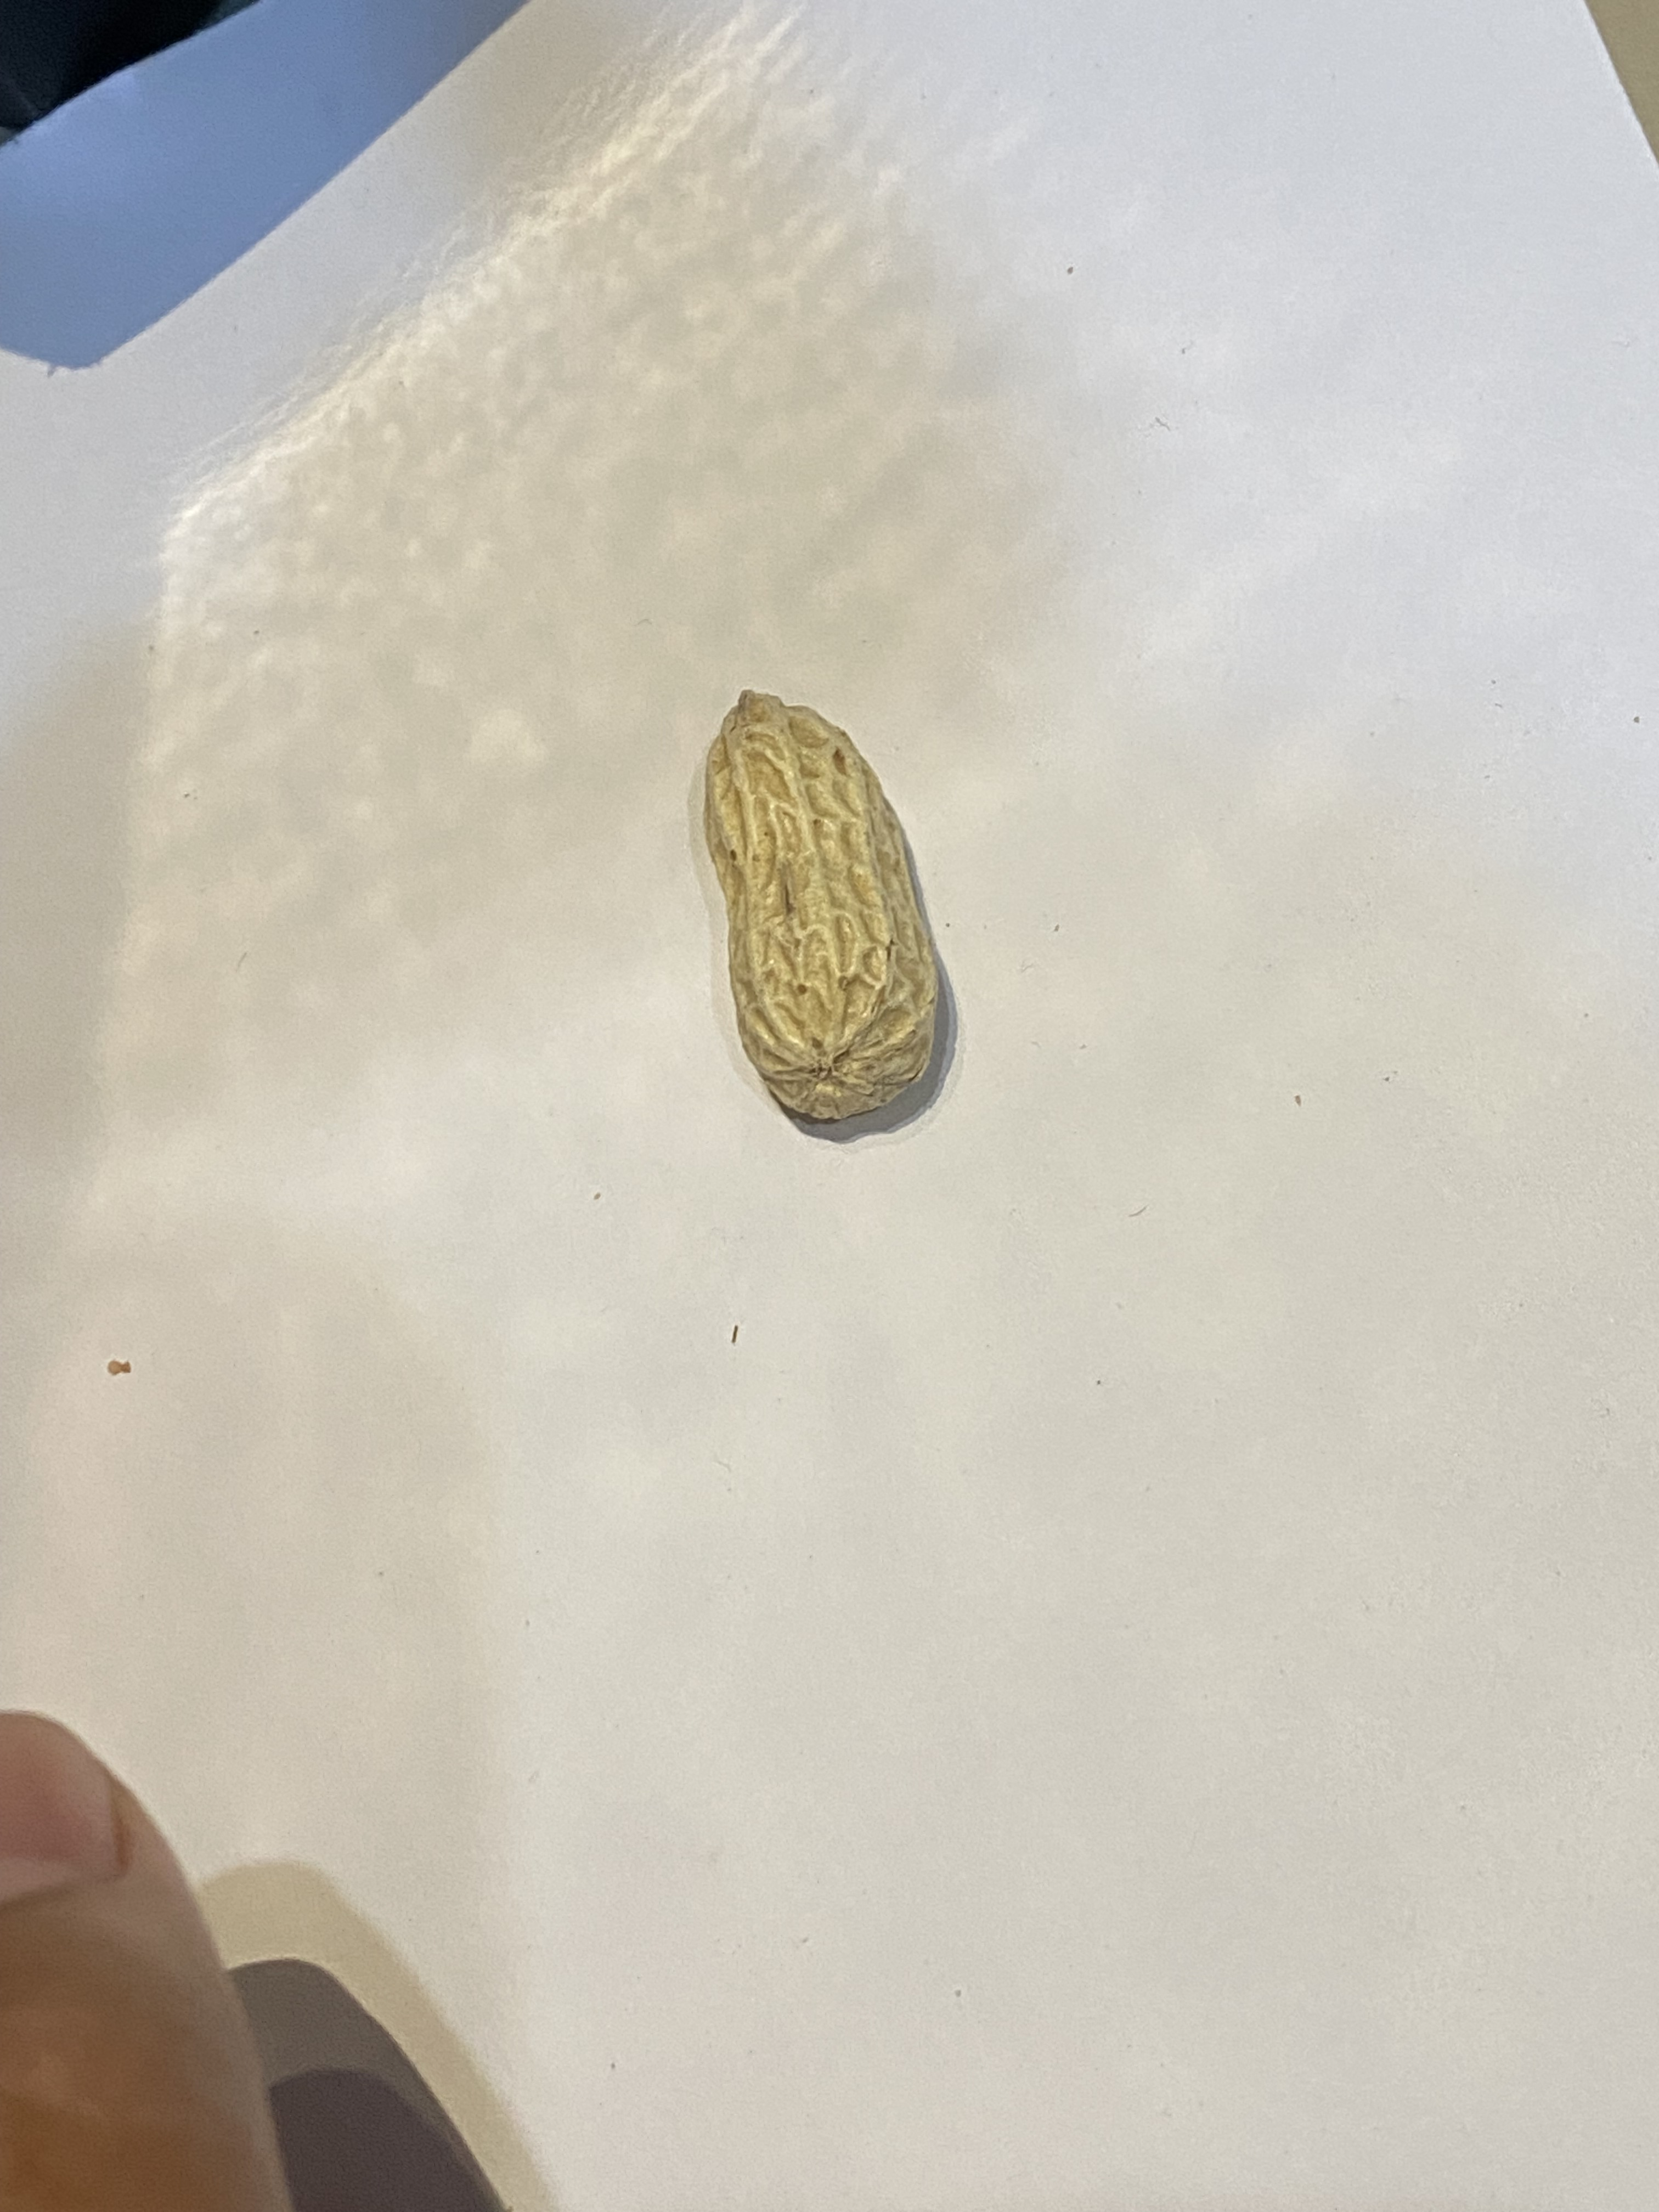kacang2: (690, 688, 958, 1127)
